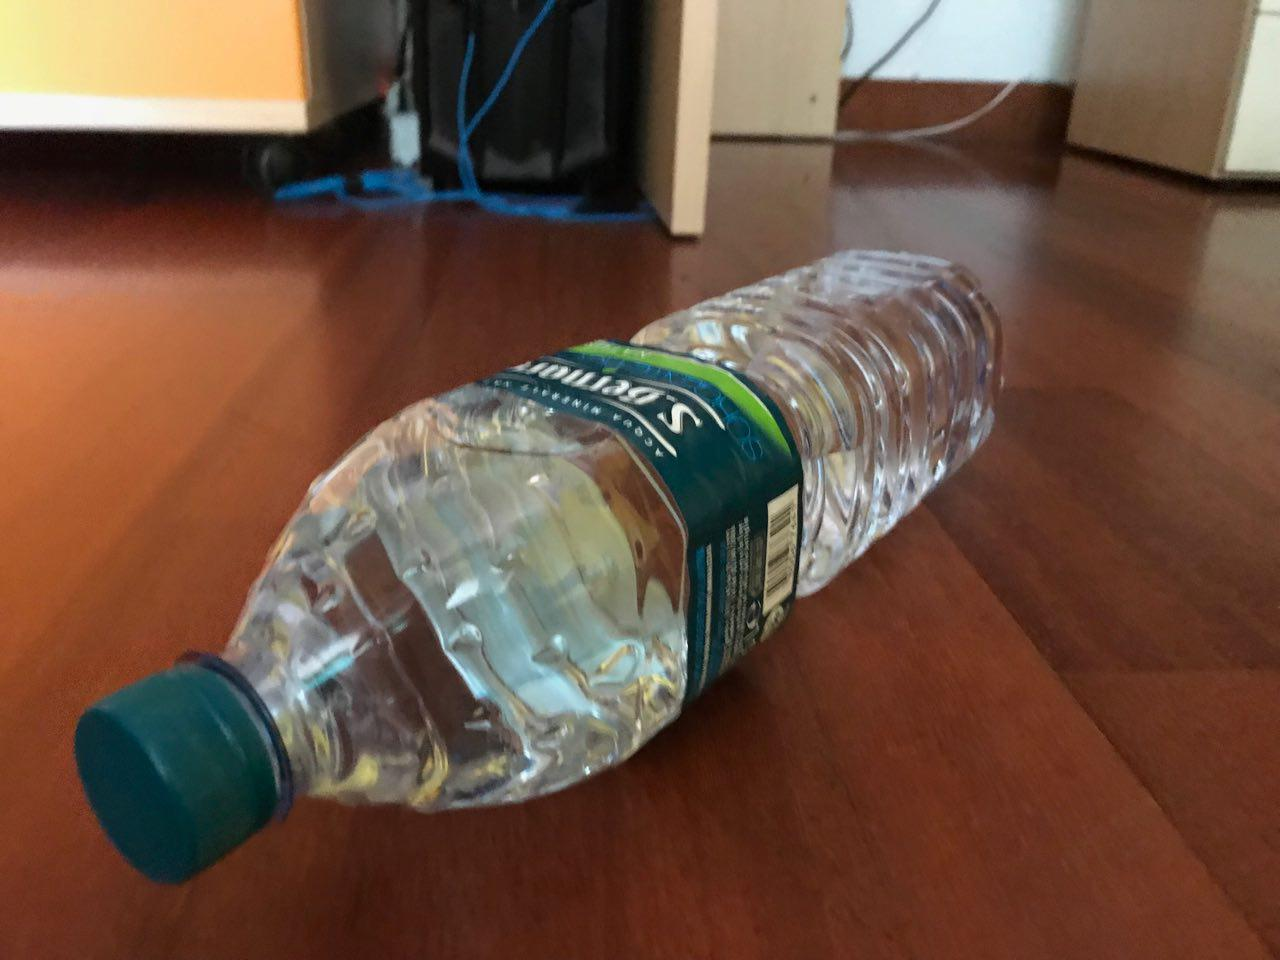san_bernardo: (70, 244, 1006, 890)
